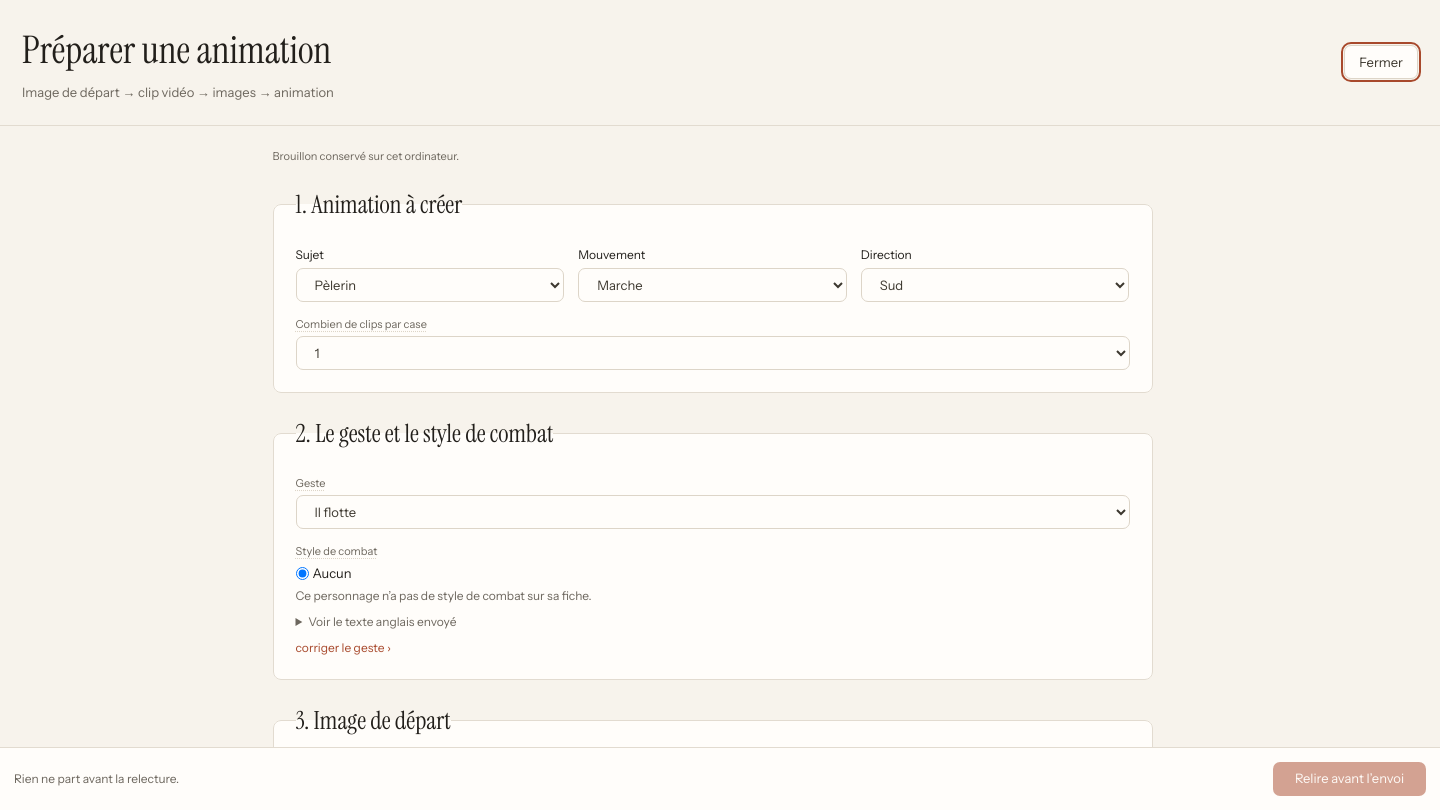
un mouvement choisi remplit le texte depuis la bibliothèque, avec son nom en français et le texte anglais repliable
Expected: the dropdown labelled "Geste" shows "Il flotte", [296,495,1130,529]
Click the heading "Voir le texte anglais envoyé".
click(382, 622)  # box [308,614,456,629]
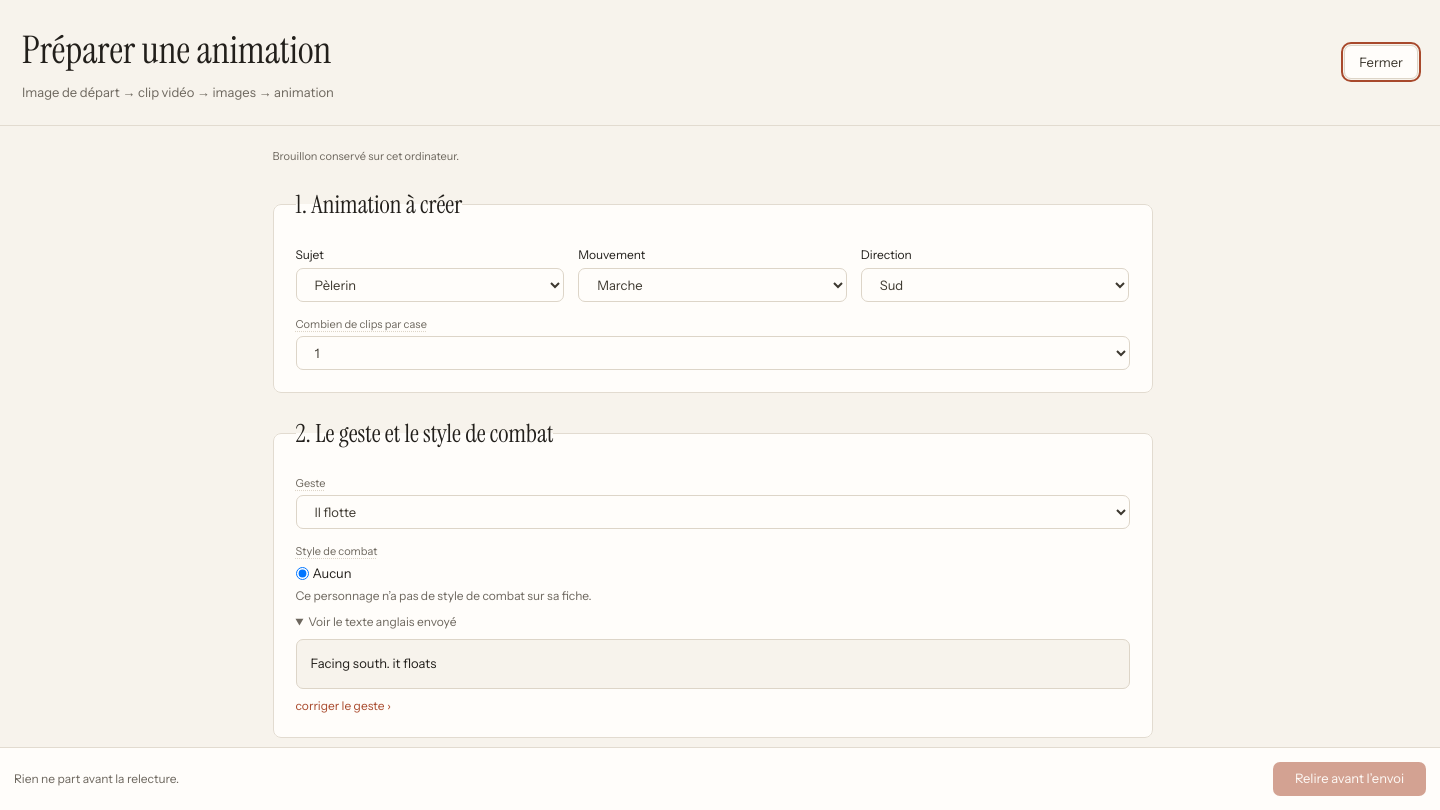
Expected: the text "Facing south. it floats" is shown, [296,639,1130,688]
